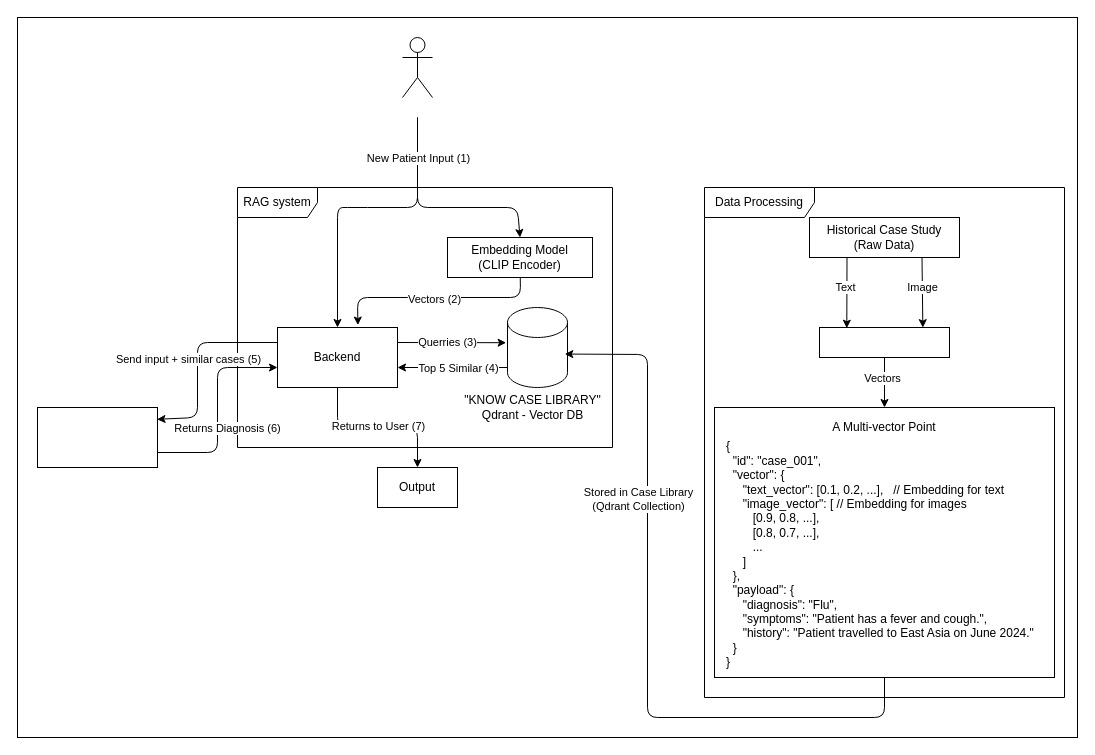
This 1095x755 diagram has some shape labels left out. Each missing label, with the centre of its shape:
CLIP Encoder: point (884, 342)
Gemini API: point (97, 437)
User: point (417, 67)
